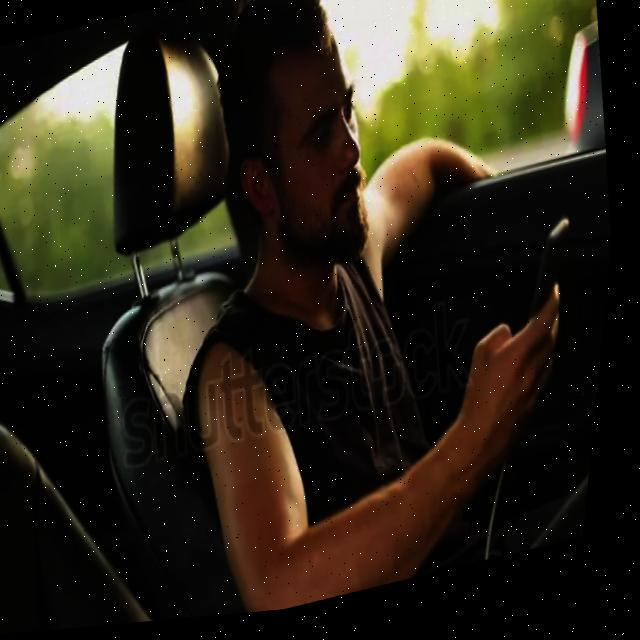PhoneCall: (520, 227, 592, 356)
